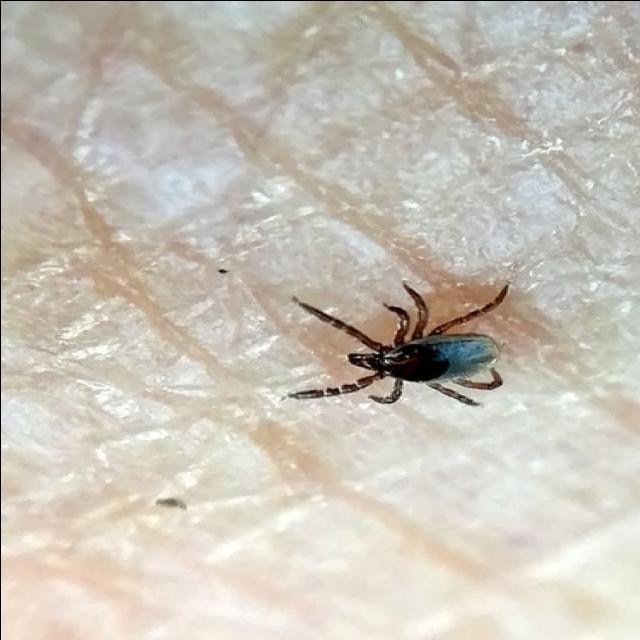Ixodes Ricinus-F: (288, 283, 509, 406)
